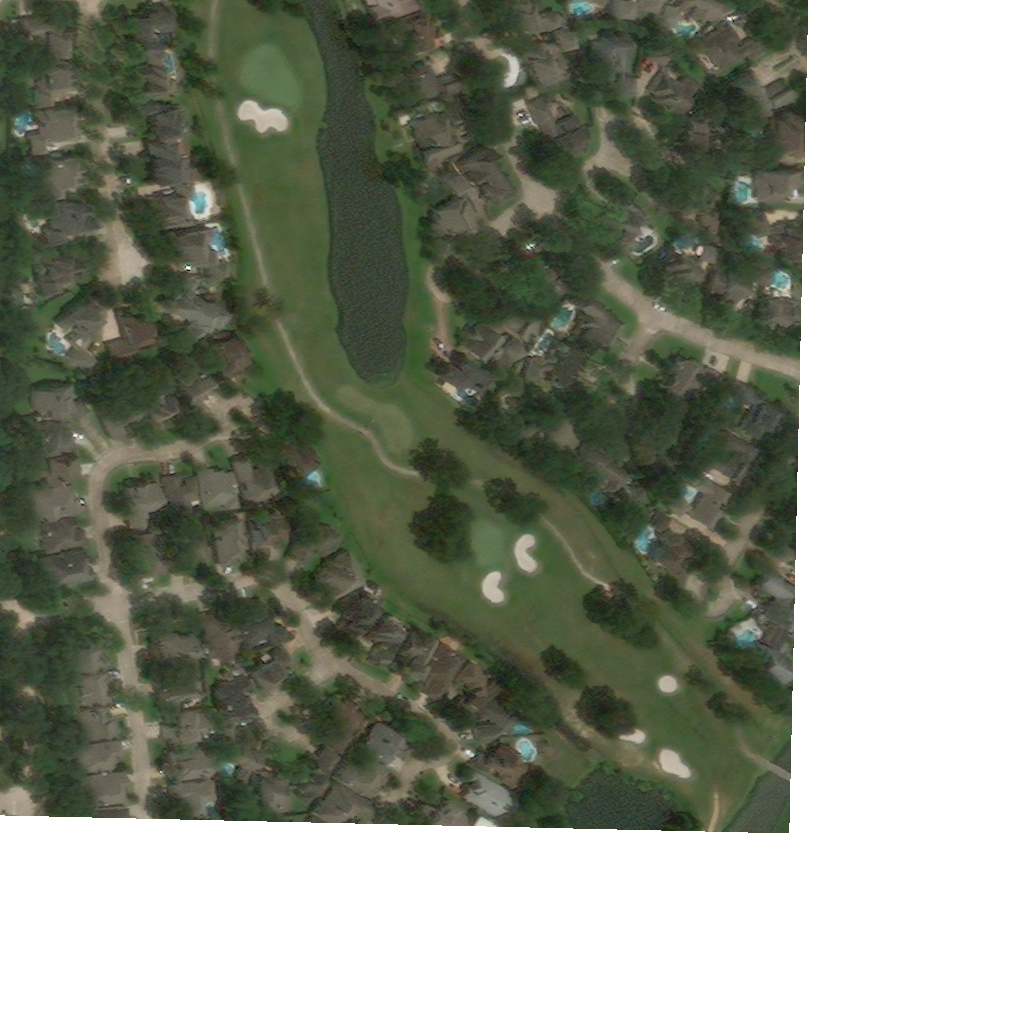no_damage: (574, 446, 647, 510), (161, 277, 230, 340), (748, 572, 790, 675), (413, 98, 467, 175), (135, 528, 211, 582), (647, 43, 698, 116), (690, 432, 760, 485), (728, 72, 799, 124), (666, 167, 722, 231), (430, 352, 495, 406), (742, 109, 801, 168), (382, 9, 444, 65), (519, 24, 575, 86), (532, 99, 588, 161), (394, 64, 466, 112), (429, 169, 481, 234), (699, 25, 767, 74), (604, 193, 653, 260), (591, 31, 639, 99), (334, 750, 392, 803), (661, 246, 725, 294), (522, 335, 579, 387), (460, 142, 510, 201), (31, 382, 95, 428), (291, 749, 342, 806), (316, 694, 366, 752), (734, 381, 781, 441), (217, 722, 261, 786), (288, 517, 342, 569), (168, 227, 225, 276), (318, 550, 366, 607), (572, 288, 620, 345), (489, 296, 549, 341), (26, 102, 73, 159), (456, 663, 501, 722), (462, 321, 525, 363), (236, 601, 287, 651), (419, 644, 469, 695), (234, 457, 283, 509), (31, 248, 79, 301), (37, 148, 82, 204), (536, 396, 587, 445), (39, 550, 97, 593), (207, 331, 251, 387), (271, 433, 321, 482), (712, 259, 771, 300), (25, 416, 79, 460), (692, 477, 732, 536), (503, 0, 565, 38), (750, 212, 798, 261), (368, 611, 408, 668), (339, 588, 381, 642), (476, 698, 525, 744), (44, 198, 89, 248), (131, 51, 181, 96), (130, 2, 175, 52), (653, 513, 688, 577), (97, 391, 140, 443), (133, 98, 190, 137), (212, 519, 255, 570), (29, 488, 86, 526), (359, 719, 405, 766), (248, 647, 297, 691), (462, 771, 512, 814), (123, 481, 166, 531), (155, 183, 198, 232), (160, 658, 204, 704), (198, 468, 241, 514), (145, 136, 187, 183), (660, 0, 721, 32), (213, 671, 252, 721), (34, 453, 85, 491), (484, 746, 528, 790), (20, 16, 68, 56), (73, 738, 124, 775), (66, 668, 112, 709), (170, 363, 210, 410), (757, 162, 800, 205), (60, 636, 105, 677), (401, 632, 440, 679), (73, 702, 116, 744), (317, 780, 375, 811), (163, 705, 210, 743), (204, 612, 241, 660), (59, 296, 102, 337), (168, 746, 214, 784), (38, 520, 89, 554), (78, 771, 128, 805), (166, 476, 202, 523), (118, 308, 160, 347), (36, 56, 68, 107), (141, 384, 172, 436), (684, 110, 718, 156), (254, 766, 290, 809), (152, 630, 195, 664), (663, 355, 700, 393), (173, 779, 222, 807), (252, 508, 286, 544), (650, 416, 682, 454), (528, 255, 559, 294), (611, 0, 667, 21), (69, 336, 100, 373), (364, 0, 416, 18), (663, 490, 687, 518), (710, 152, 732, 180), (569, 0, 610, 10), (775, 544, 791, 569)
